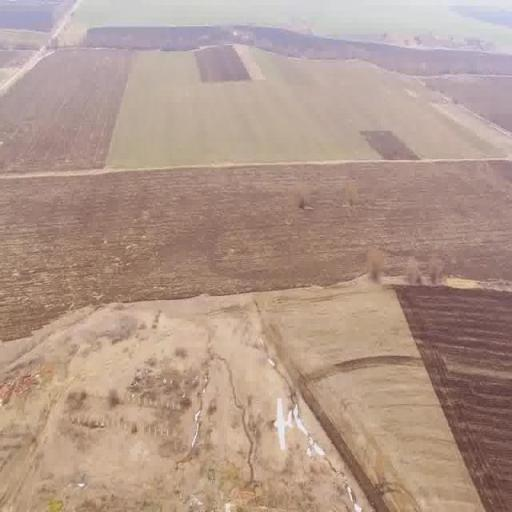uav: (261, 384, 308, 454)
